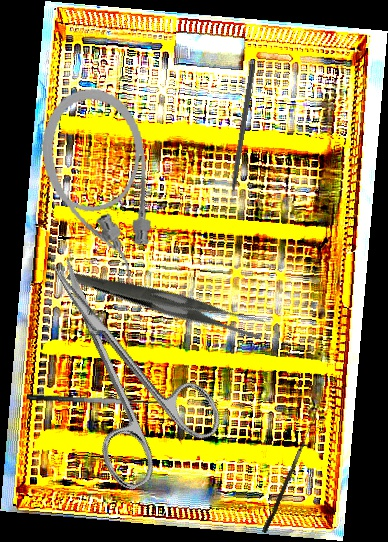Cannula: (34, 81, 163, 289)
Dressing Forceps: (66, 215, 269, 387)
Hook Surgical: (261, 412, 317, 535), (225, 63, 256, 210)
Iris Scissors: (8, 228, 233, 496)
Spatula Surgical: (26, 382, 163, 410)
